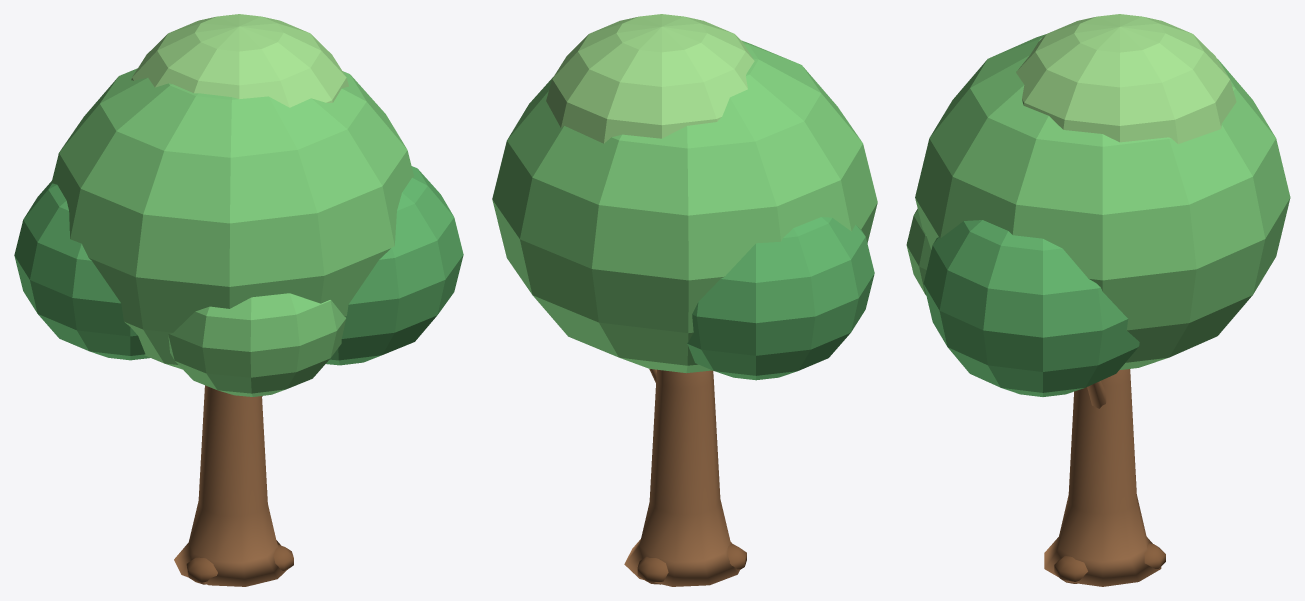
Rendered from tree.glb.
3 renders of one model, left to right at view 1: azimuth 30°, elevation 25°; view 2: azimuth 150°, elevation 25°; view 3: azimuth 270°, elevation 25°, orthographic. The views are drawn at different scales.
Parts seen in each view (by area): view 1: tree; view 2: tree; view 3: tree.
Part boxes in pixels (<box>): tree: <box>14,14,463,586</box>; tree: <box>492,14,877,586</box>; tree: <box>906,14,1290,586</box>.
Bounding box in the file's own units: 2.6 × 3.54 × 2.25.
1 material, 1 textured.
